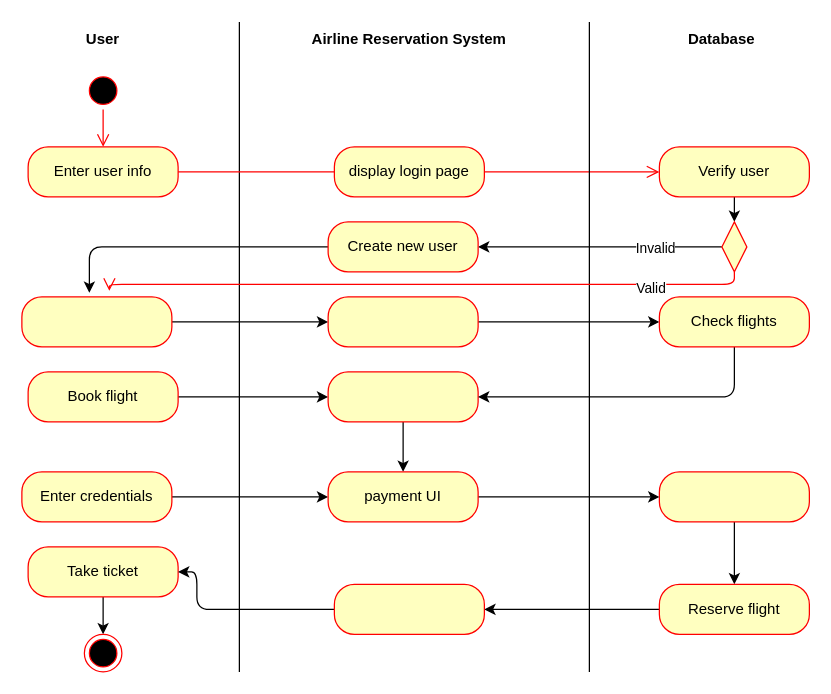
Image size: 831x694. Some labels were removed from this diagram. Here are the shapes that lost their labels. From the top down, the centre of each, then its label:
pixel 96 321: search flight
pixel 402 321: search display
pixel 402 396: flight list display
pixel 733 496: perform Tran saction
pixel 408 608: provide ticket
